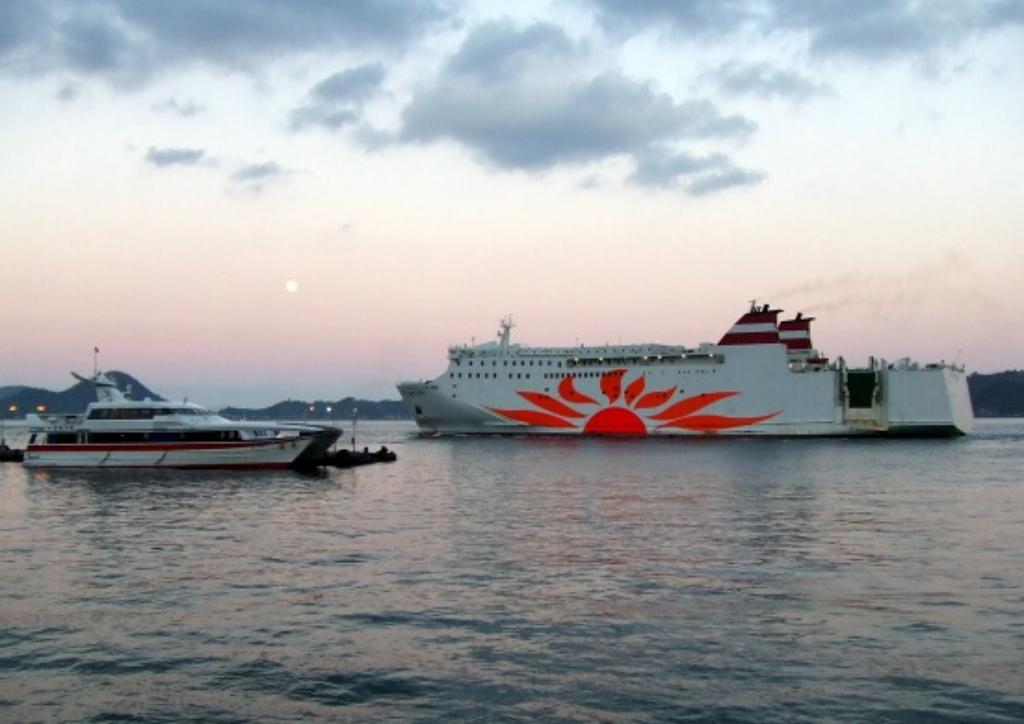PassengerShip: (392, 296, 980, 442), (14, 367, 346, 477)
